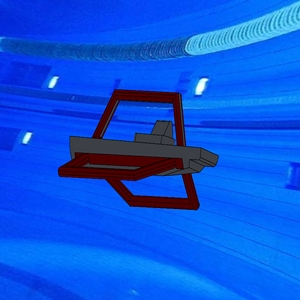submarine: (56, 84, 222, 213)
